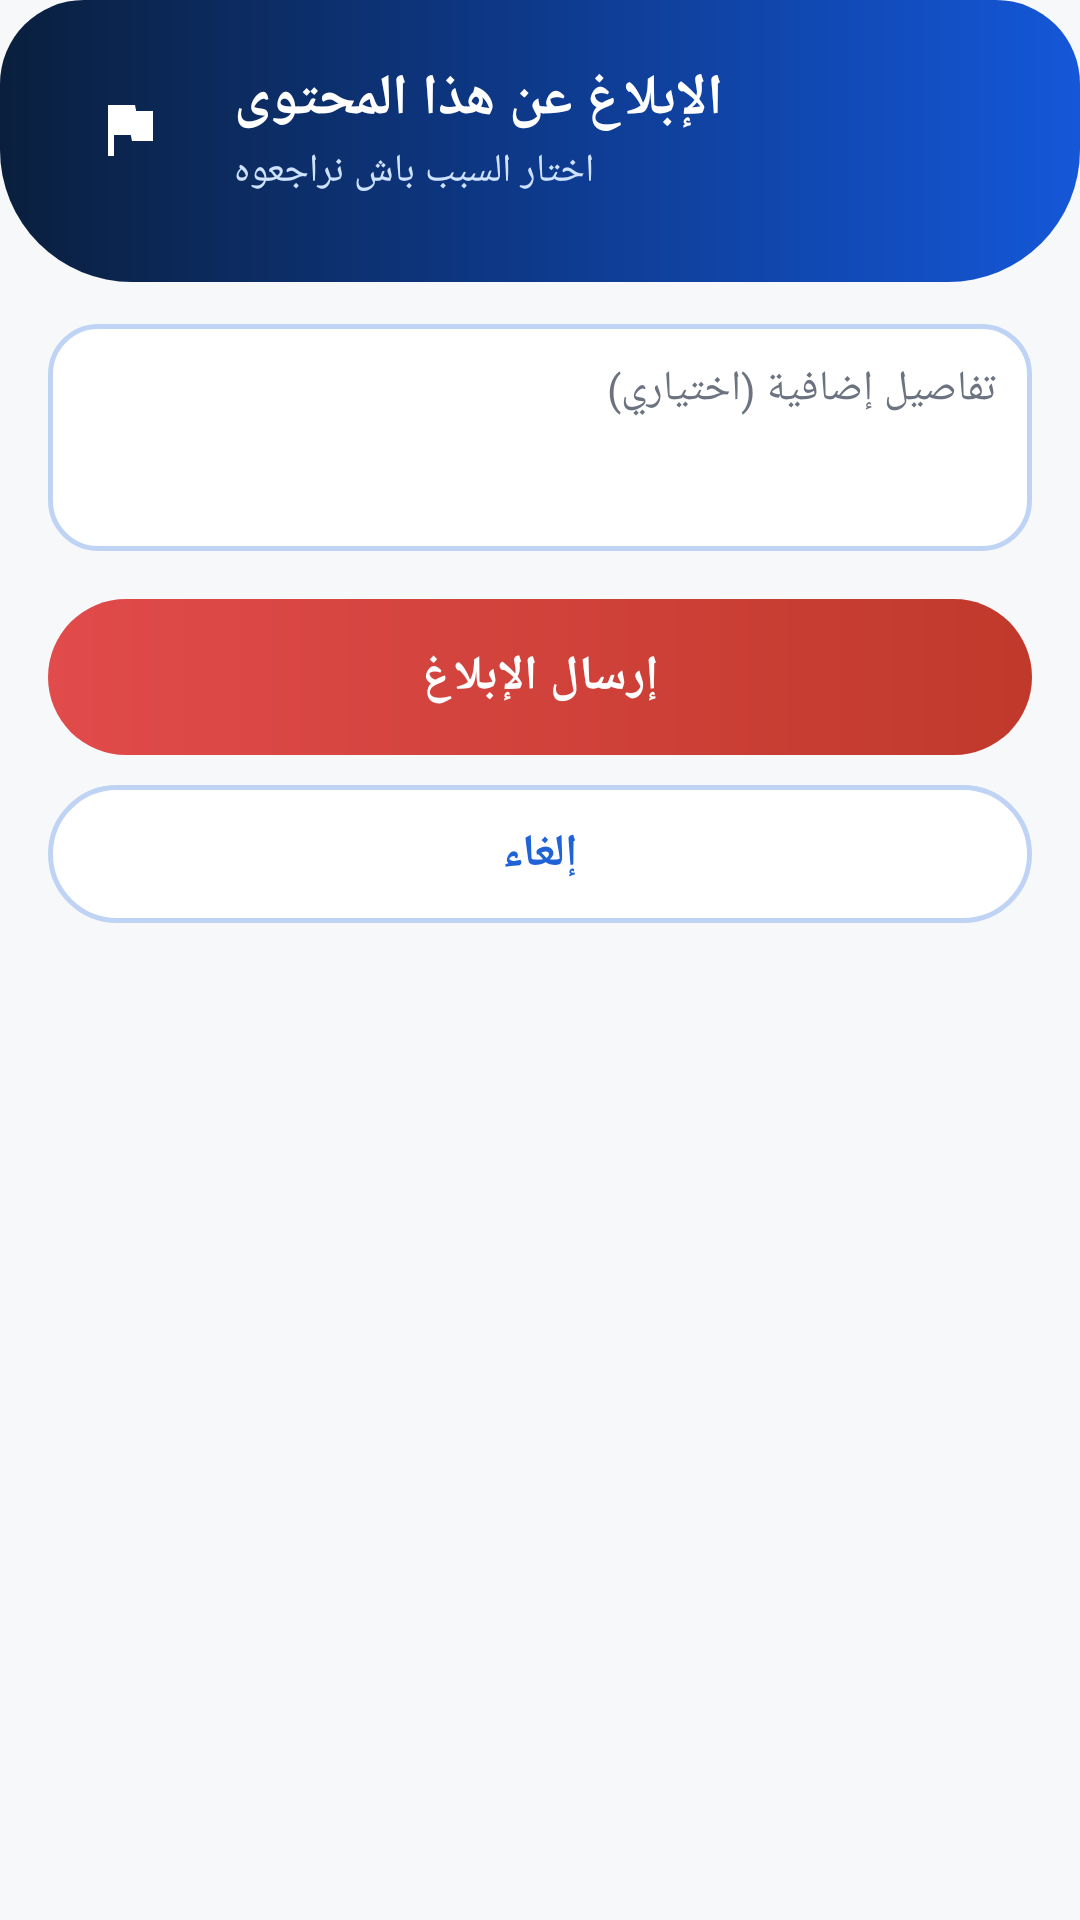

Icon bounding boxes for this 1080 x 1920 phone screenshot, format bbox=(x1, y1, x2, y2):
flag: bbox=(108, 105, 153, 156)
